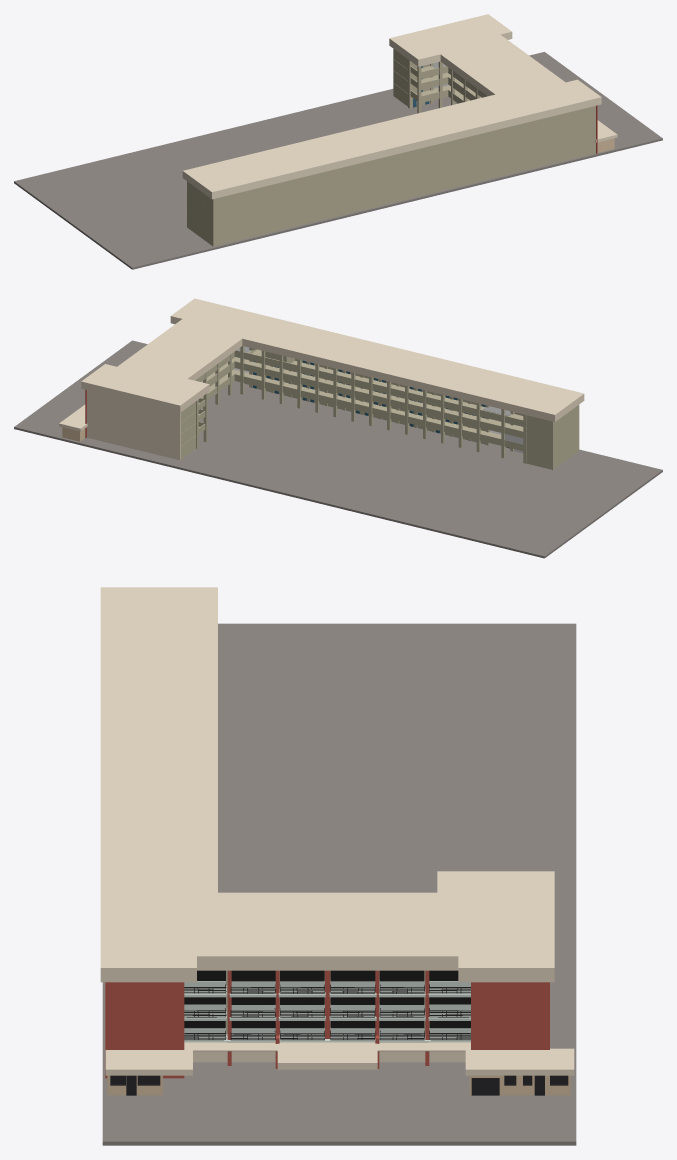
3 renders of one model, top to bottom at view 1: azimuth 30°, elevation 25°; view 2: azimuth 150°, elevation 25°; view 3: azimuth 270°, elevation 25°, orthographic. The views are drawn at different scales.
Visible parts, largest first — view 1: GROUND FLOOR_1, ROOF, WALLS.013, WALLS.007, WALLS.019, FLOORS_3, FLOOR_2, FLOORS_4, FRONT ENTRANCE; view 2: GROUND FLOOR_1, ROOF, FLOORS_3, FLOOR_2, FLOORS_4, WALLS.004, WALLS.010, WALLS.016, WALLS.013, WALLS.007, WALLS.019, FRONT ENTRANCE.001 (+1 smaller); view 3: GROUND FLOOR_1, ROOF, FRONT ENTRANCE.001, FRONT ENTRANCE, WALLS.012, WALLS.009, SLABS.002, WALLS.018, WALLS.015, SLABS.003, SLABS, WALLS.020 (+1 smaller).
Part boxes in pixels (x1,y1,x2,y2): GROUND FLOOR_1: [14, 52, 662, 269]; ROOF: [182, 14, 601, 199]; WALLS.013: [187, 118, 595, 228]; WALLS.007: [187, 136, 595, 246]; WALLS.019: [187, 106, 595, 211]; FLOORS_3: [410, 72, 481, 100]; FLOOR_2: [410, 85, 469, 103]; FLOORS_4: [410, 66, 487, 97]; FRONT ENTRANCE: [595, 120, 617, 152]; GROUND FLOOR_1: [14, 340, 662, 558]; ROOF: [81, 298, 584, 421]; FLOORS_3: [198, 357, 523, 437]; FLOOR_2: [198, 369, 523, 450]; FLOORS_4: [195, 350, 523, 426]; WALLS.004: [87, 420, 180, 460]; WALLS.010: [87, 402, 180, 442]; WALLS.016: [87, 390, 180, 425]; WALLS.013: [514, 412, 579, 452]; WALLS.007: [526, 433, 579, 469]; WALLS.019: [526, 405, 579, 434]; FRONT ENTRANCE.001: [59, 404, 87, 441]; GROUND FLOOR_1: [102, 623, 576, 1145]; ROOF: [100, 587, 554, 982]; FRONT ENTRANCE.001: [465, 1048, 574, 1095]; FRONT ENTRANCE: [105, 1048, 192, 1095]; WALLS.012: [105, 1008, 184, 1043]; WALLS.009: [471, 1008, 549, 1043]; SLABS.002: [277, 1042, 377, 1069]; WALLS.018: [105, 982, 184, 1008]; WALLS.015: [471, 982, 549, 1008]; SLABS.003: [184, 1042, 470, 1051]; SLABS: [184, 1034, 470, 1042]; WALLS.020: [379, 1051, 465, 1062].
Bounding box in the file's own units: 150 × 15.83 × 58.01.
